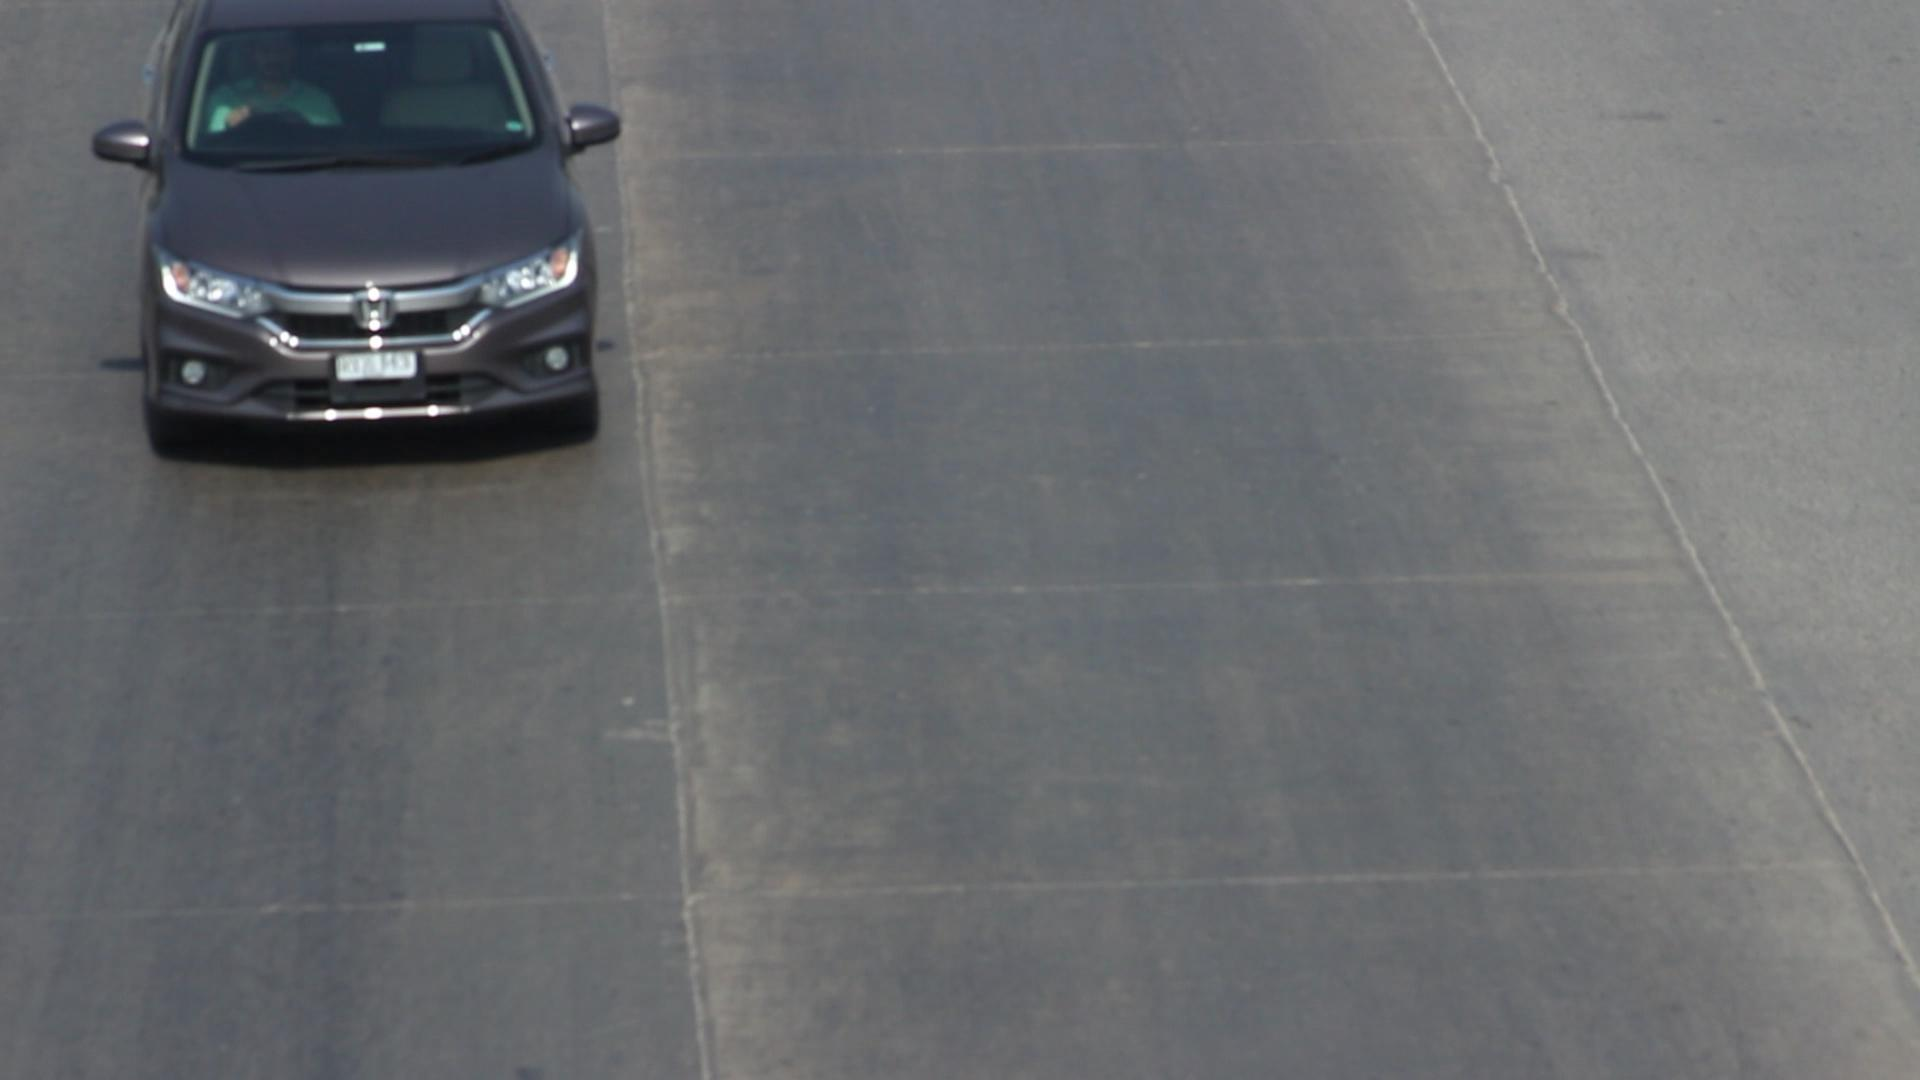windshield: (174, 4, 551, 160)
